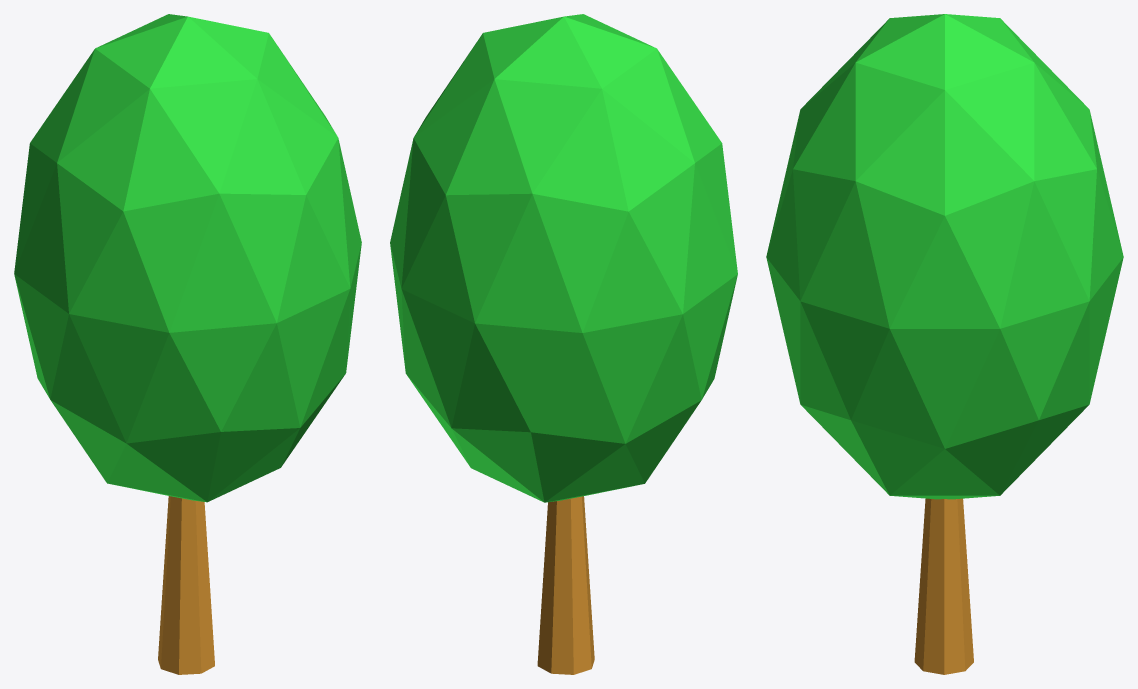
The model's file is low_poly_tree.fbx.
3 views of the same model, side by side, from view 1: azimuth 30°, elevation 25°; view 2: azimuth 150°, elevation 25°; view 3: azimuth 270°, elevation 25° (orthographic).
Parts seen in each view (by area): view 1: Icosphere.002, Cone.001; view 2: Icosphere.002, Cone.001; view 3: Icosphere.002, Cone.001.
Part boxes in pixels (x1,y1,x2,y2): Icosphere.002: (14, 14, 361, 502); Cone.001: (158, 496, 214, 674); Icosphere.002: (390, 14, 737, 502); Cone.001: (537, 496, 594, 674); Icosphere.002: (766, 14, 1123, 499); Cone.001: (914, 498, 973, 674).
Bounding box in the file's own units: 571 × 1202 × 600.
